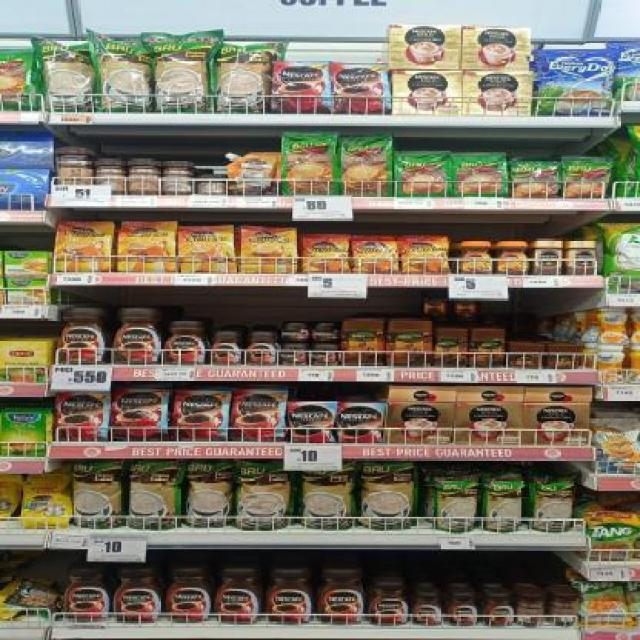Coffee: (273, 61, 332, 112), (120, 222, 176, 273), (111, 306, 160, 364), (232, 389, 285, 442), (114, 390, 168, 442), (176, 389, 227, 442), (336, 62, 389, 112), (56, 391, 109, 440), (60, 307, 104, 365), (59, 222, 110, 272), (266, 570, 312, 624), (318, 570, 364, 624), (166, 568, 210, 624), (63, 568, 109, 621), (114, 569, 158, 623), (180, 228, 233, 272), (216, 571, 259, 624), (241, 228, 294, 270), (338, 402, 384, 443), (166, 318, 205, 364), (302, 235, 351, 271), (368, 583, 409, 625), (290, 402, 334, 441), (403, 235, 448, 272), (355, 235, 397, 273), (459, 240, 493, 274), (480, 594, 514, 626), (568, 240, 598, 276), (498, 240, 528, 274), (248, 330, 278, 364), (211, 330, 240, 365), (446, 594, 476, 626), (414, 593, 442, 625), (536, 240, 562, 274), (282, 343, 310, 366), (313, 343, 339, 366), (284, 323, 310, 342), (315, 323, 339, 342)
